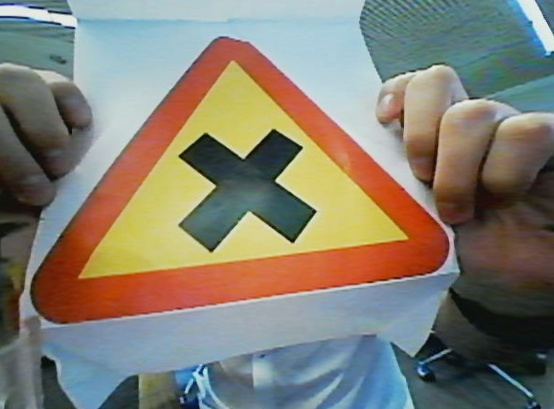junction: (23, 39, 449, 316)
